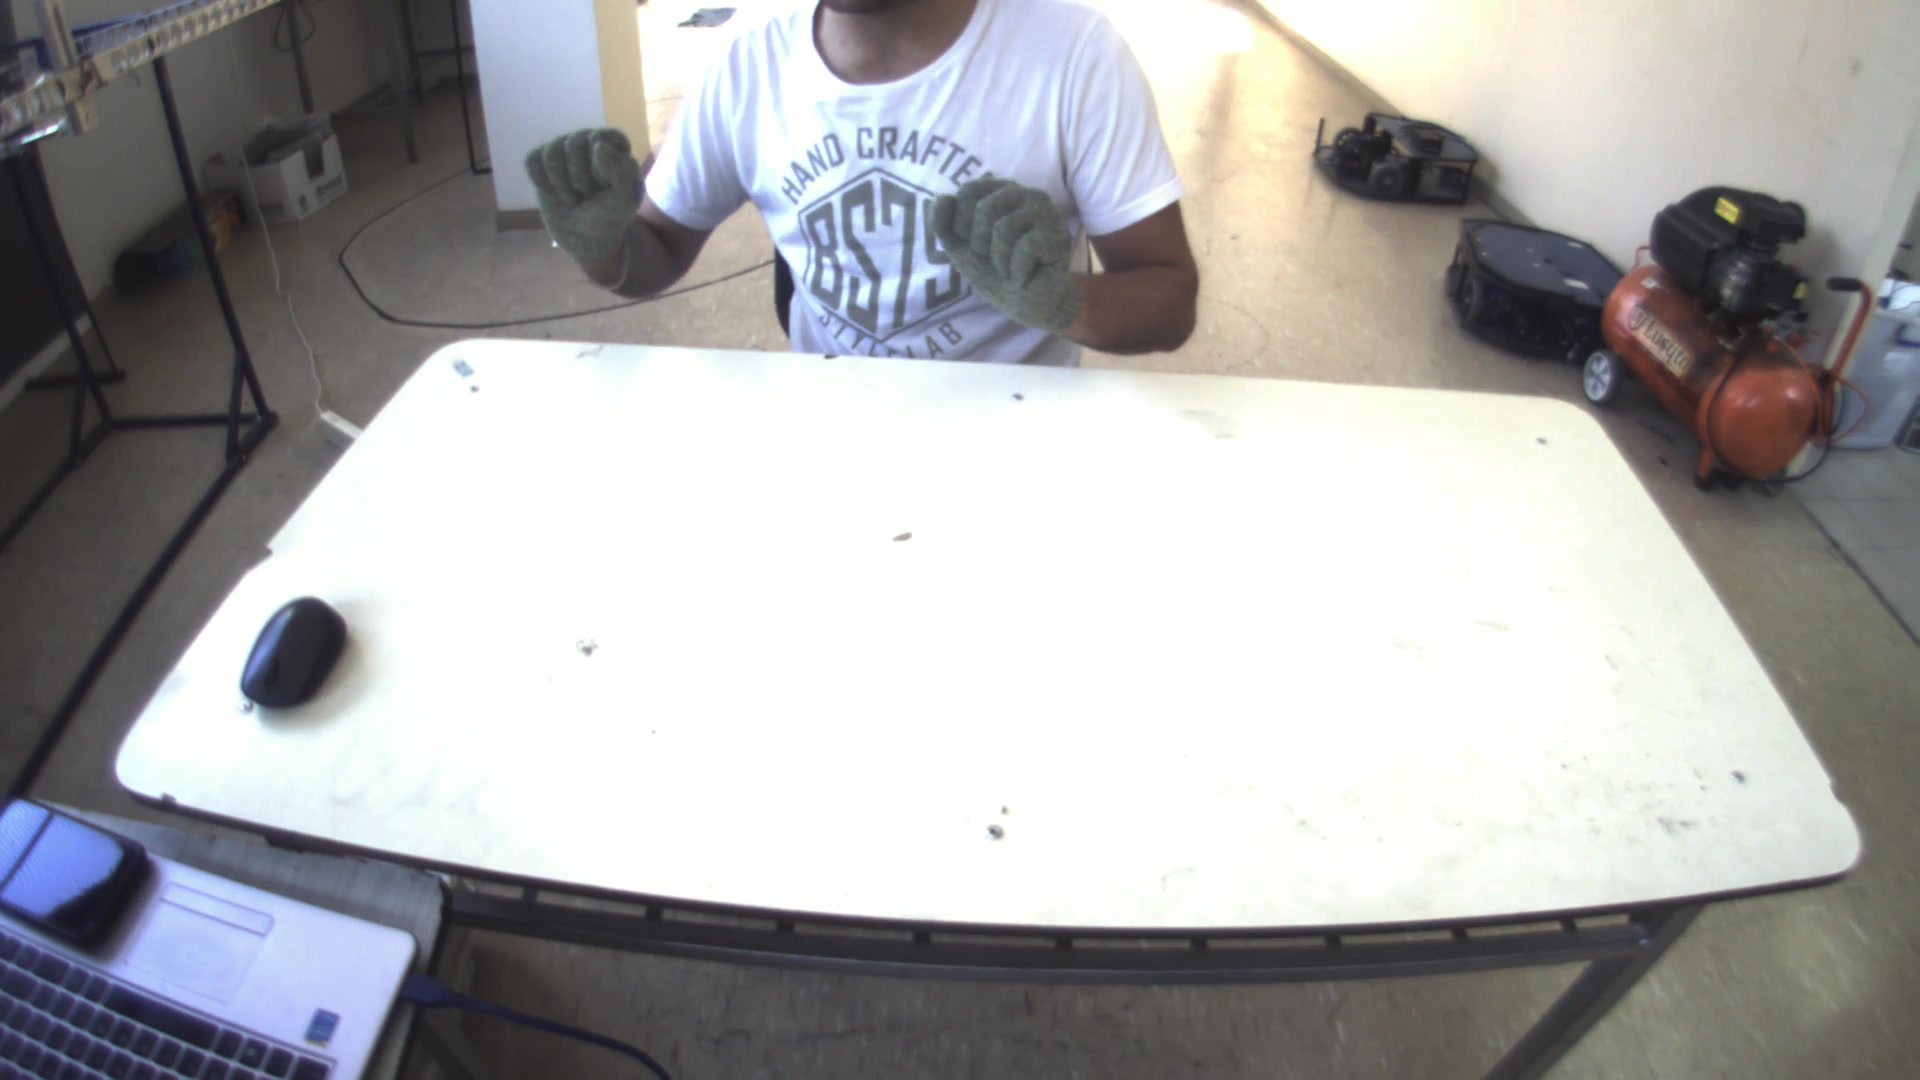hand: (922, 166, 1091, 324), (509, 123, 646, 268)
